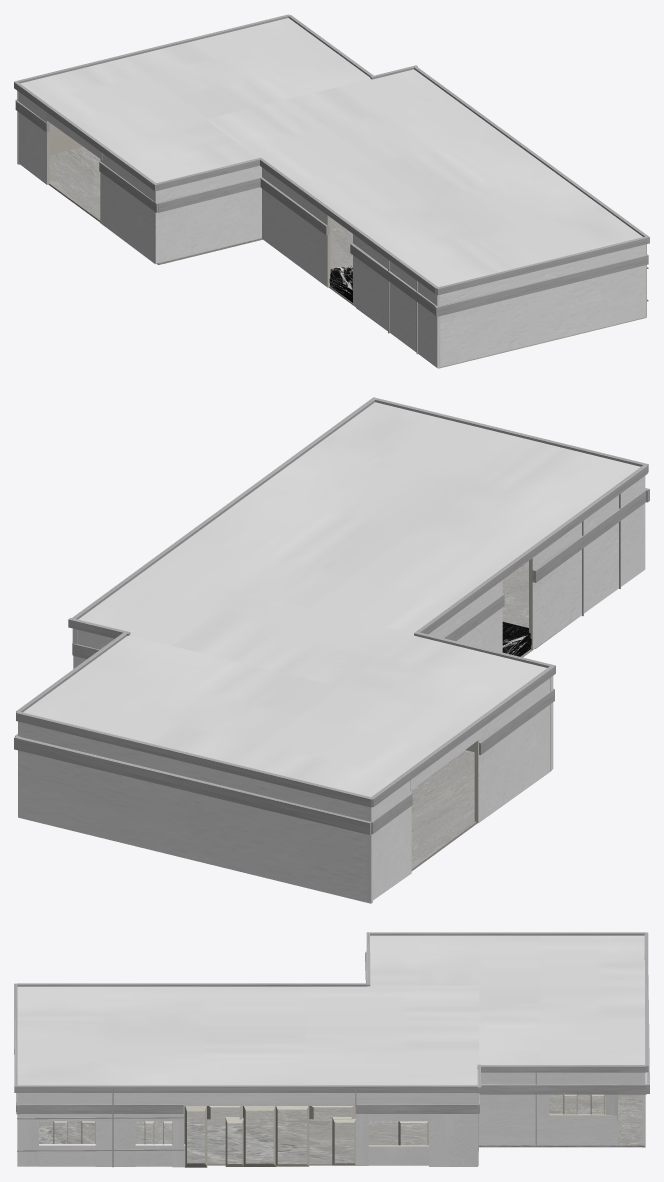
Rendered from casa.obj.
3 views of the same model, one above another, from view 1: azimuth 30°, elevation 25°; view 2: azimuth 150°, elevation 25°; view 3: azimuth 270°, elevation 25° (orthographic). The views are drawn at different scales.
Visible parts, largest first — view 1: casa_casa:lambert53SG.002, casa_casa:lambert54SG.002, casa_lambert2SG.003, casa_casa:lambert35SG.002, casa_casa:lambert34SG.002, casa_casa:lambert36SG.002, casa_casa:lambert38SG.002, casa_casa:lambert33SG2.002, casa_casa:lambert5SG.002, casa_casa:lambert33SG4.002, casa_casa:lambert2SG.002, casa_casa:initialShadingGroup2.002 (+1 smaller); view 2: casa_casa:lambert53SG.002, casa_casa:lambert54SG.002, casa_casa:lambert32SG.002, casa_lambert2SG.003, casa_casa:lambert36SG.002, casa_casa:lambert33SG2.002, casa_casa:lambert5SG.002, casa_casa:lambert33SG4.002, casa_casa:lambert38SG.002, casa_casa:lambert4SG.002, casa_casa:initialShadingGroup2.002, casa_casa:lambert33SG.002; view 3: casa_casa:lambert53SG.002, casa_casa:lambert54SG.002, casa_lambert2SG.003, casa_casa:lambert2SG.002, casa_casa:lambert17SG.002, casa_casa:lambert22SG.002, casa_casa:initialShadingGroup2.002, casa_casa:lambert5SG2.002, casa_casa:lambert15SG.002, casa_casa:lambert30SG.002, casa_casa:lambert24SG.002, casa_casa:lambert4SG.002 (+8 smaller).
Part boxes in pixels (left/top/right/bottom): casa_casa:lambert53SG.002: left=206, top=69, right=642, bottom=286; casa_casa:lambert54SG.002: left=20, top=18, right=422, bottom=182; casa_lambert2SG.003: left=14, top=14, right=649, bottom=354; casa_casa:lambert35SG.002: left=440, top=244, right=646, bottom=367; casa_casa:lambert34SG.002: left=155, top=165, right=261, bottom=263; casa_casa:lambert36SG.002: left=353, top=234, right=437, bottom=367; casa_casa:lambert38SG.002: left=262, top=167, right=327, bottom=287; casa_casa:lambert33SG2.002: left=100, top=153, right=154, bottom=263; casa_casa:lambert5SG.002: left=48, top=147, right=262, bottom=264; casa_casa:lambert33SG4.002: left=19, top=92, right=46, bottom=184; casa_casa:lambert2SG.002: left=330, top=218, right=352, bottom=303; casa_casa:initialShadingGroup2.002: left=156, top=215, right=646, bottom=368; casa_casa:lambert53SG.002: left=78, top=402, right=640, bottom=687; casa_casa:lambert54SG.002: left=23, top=584, right=546, bottom=796; casa_casa:lambert32SG.002: left=18, top=721, right=371, bottom=903; casa_lambert2SG.003: left=14, top=397, right=649, bottom=834; casa_casa:lambert36SG.002: left=532, top=476, right=645, bottom=649; casa_casa:lambert33SG2.002: left=478, top=678, right=551, bottom=822; casa_casa:lambert5SG.002: left=411, top=750, right=477, bottom=871; casa_casa:lambert33SG4.002: left=373, top=780, right=411, bottom=900; casa_casa:lambert38SG.002: left=428, top=580, right=502, bottom=652; casa_casa:lambert4SG.002: left=502, top=561, right=528, bottom=627; casa_casa:initialShadingGroup2.002: left=474, top=558, right=585, bottom=822; casa_casa:lambert33SG.002: left=411, top=728, right=481, bottom=790; casa_casa:lambert53SG.002: left=17, top=986, right=479, bottom=1085; casa_casa:lambert54SG.002: left=368, top=935, right=644, bottom=1064; casa_lambert2SG.003: left=14, top=932, right=649, bottom=1167; casa_casa:lambert2SG.002: left=184, top=1106, right=426, bottom=1163; casa_casa:lambert17SG.002: left=22, top=1093, right=478, bottom=1105; casa_casa:lambert22SG.002: left=479, top=1115, right=617, bottom=1145; casa_casa:initialShadingGroup2.002: left=39, top=1106, right=611, bottom=1167; casa_casa:lambert5SG2.002: left=479, top=1094, right=644, bottom=1147; casa_casa:lambert15SG.002: left=429, top=1114, right=477, bottom=1166; casa_casa:lambert30SG.002: left=33, top=1144, right=185, bottom=1166; casa_casa:lambert24SG.002: left=481, top=1072, right=642, bottom=1084; casa_casa:lambert4SG.002: left=39, top=1121, right=171, bottom=1143.
Size of the model in its own units: 13.84 by 3.47 by 24.02.
